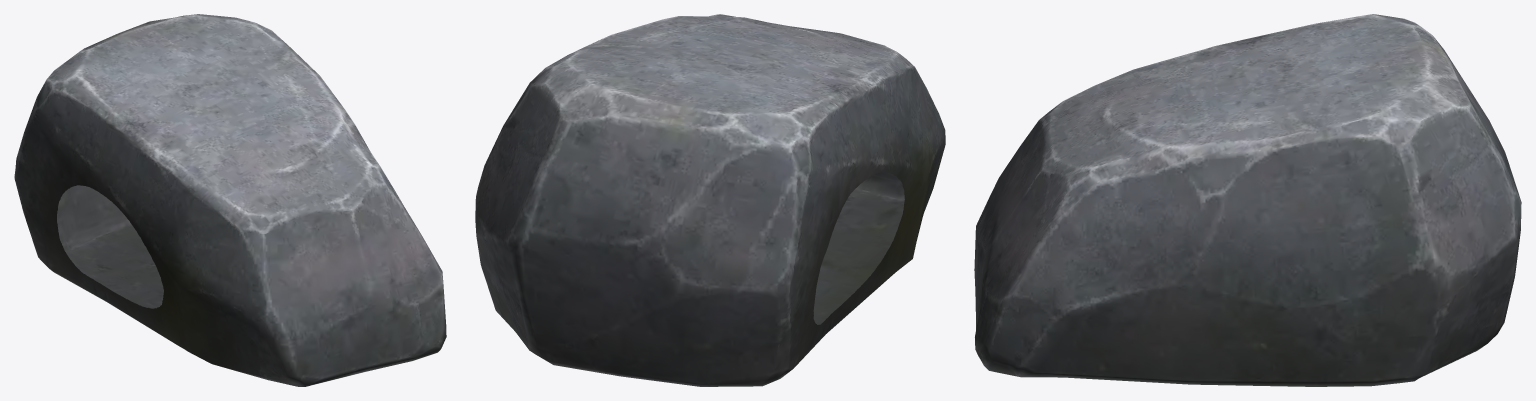
3 views of the same model, side by side, from view 1: azimuth 30°, elevation 25°; view 2: azimuth 150°, elevation 25°; view 3: azimuth 270°, elevation 25° (orthographic). The views are drawn at different scales.
Parts seen in each view (by area): view 1: SM_Stone_01_LOD0; view 2: SM_Stone_01_LOD0; view 3: SM_Stone_01_LOD0.
Boxes of the visible parts, x1=… form: SM_Stone_01_LOD0: x1=14, y1=14, x2=446, y2=386; SM_Stone_01_LOD0: x1=475, y1=14, x2=945, y2=386; SM_Stone_01_LOD0: x1=974, y1=14, x2=1521, y2=386.
Size of the model in its own units: 0.25 by 0.1889 by 0.3685.
1 material, 1 textured.
